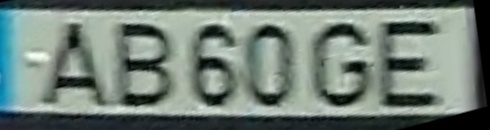0: (243, 22, 297, 110)
6: (187, 20, 241, 110)
A: (35, 18, 113, 109)
B: (115, 21, 177, 108)
E: (376, 18, 439, 109)
G: (310, 19, 373, 110)
